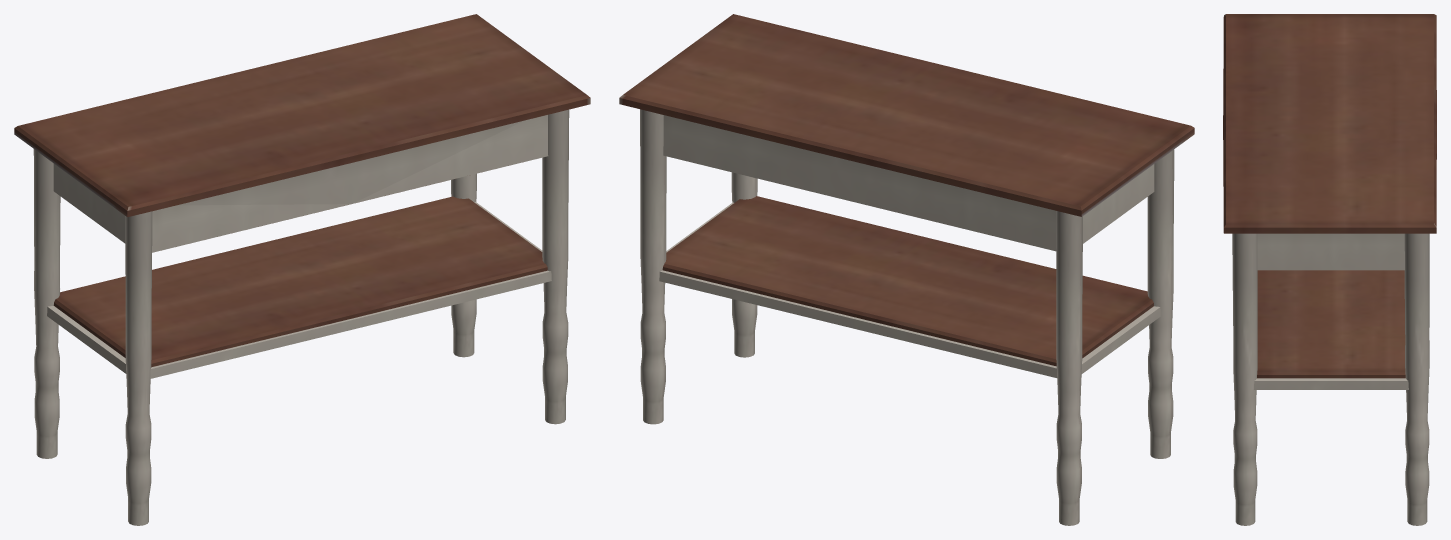
The model's file is SideTableDark_Large.FBX.
3 views of the same model, side by side, from view 1: azimuth 30°, elevation 25°; view 2: azimuth 150°, elevation 25°; view 3: azimuth 270°, elevation 25° (orthographic). The views are drawn at different scales.
Visible parts, largest first — view 1: SideTable_Large; view 2: SideTable_Large; view 3: SideTable_Large.
Boxes of the visible parts, x1=… form: SideTable_Large: x1=14, y1=14, x2=590, y2=525; SideTable_Large: x1=619, y1=14, x2=1194, y2=525; SideTable_Large: x1=1223, y1=14, x2=1436, y2=525.
Bounding box in the file's own units: 101 × 67.87 × 42.79.
